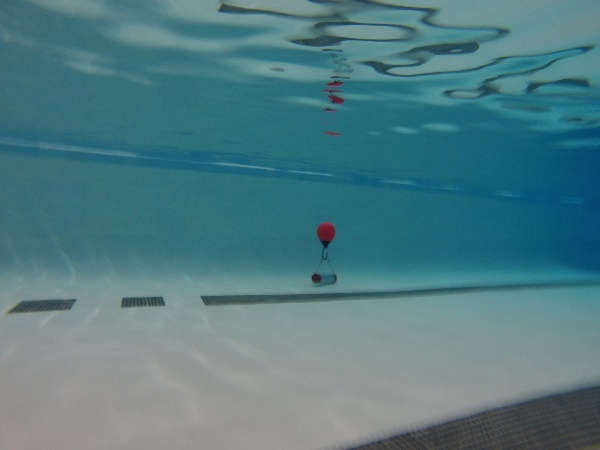buoy_red: (316, 221, 337, 249)
